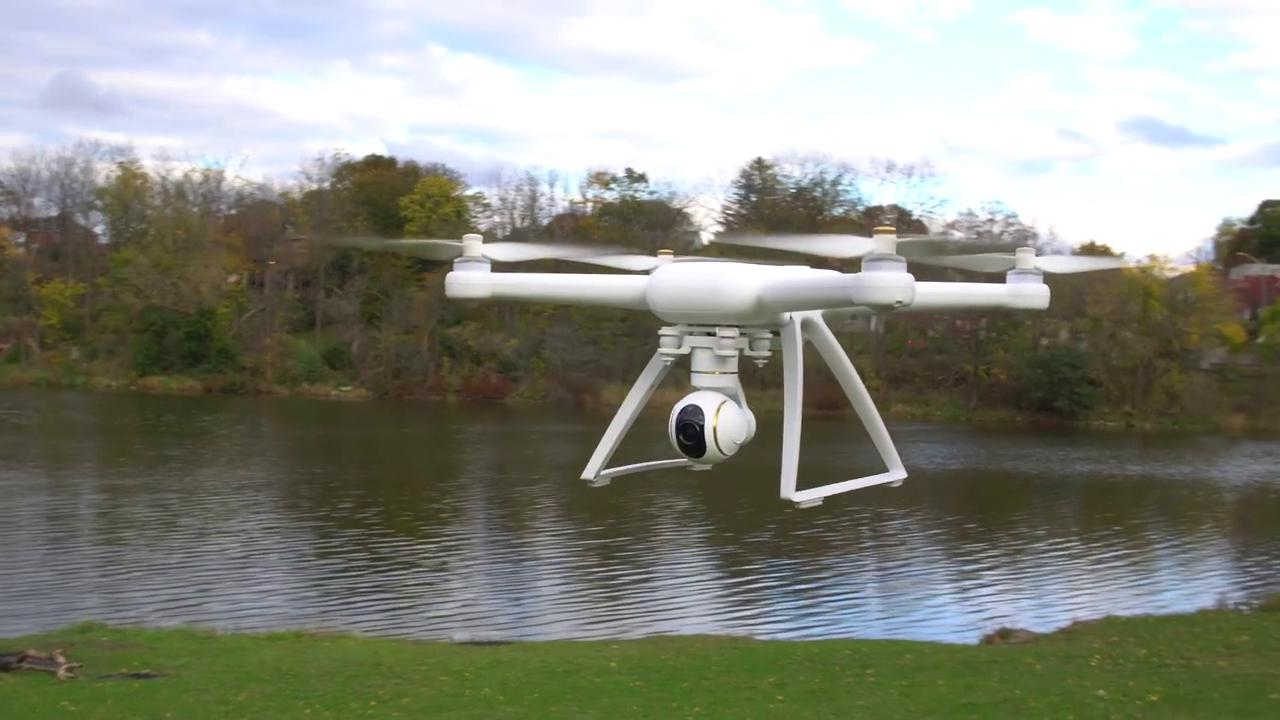drone: (354, 190, 1169, 410)
